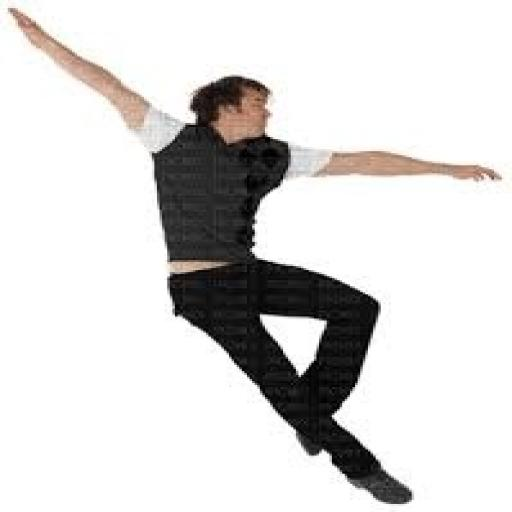dancing: (5, 4, 507, 508)
